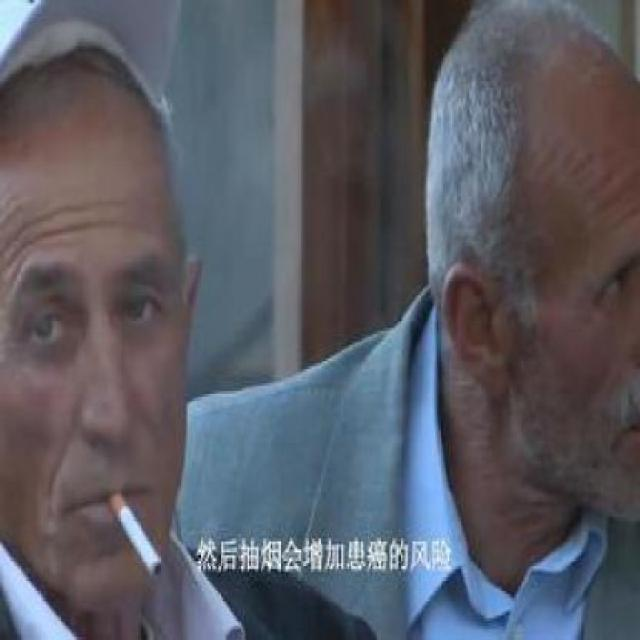smoke: (97, 463, 172, 602)
